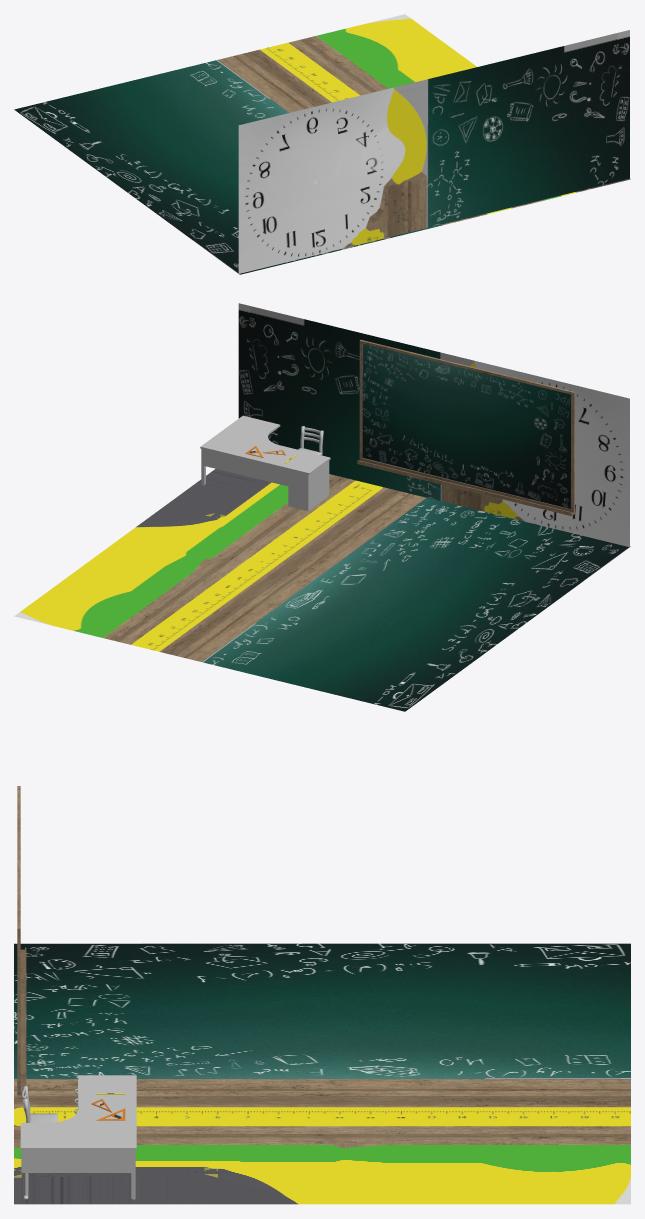
Rendered from ПЗ2.4_Школьный класс_КоноплевСА_Гр7.fbx.
3 views of the same model, one above another, from view 1: azimuth 30°, elevation 25°; view 2: azimuth 150°, elevation 25°; view 3: azimuth 270°, elevation 25° (orthographic). The views are drawn at different scales.
Parts seen in each view (by area): view 1: Плоскость.001, Плоскость; view 2: Плоскость, Плоскость.001, Cube.002, Cube.017; view 3: Плоскость, Cube.017, Cube.002.
Part boxes in pixels (x1=…): Плоскость.001: x1=238, y1=30, x2=629, y2=273; Плоскость: x1=14, y1=14, x2=630, y2=274; Плоскость: x1=14, y1=469, x2=630, y2=711; Плоскость.001: x1=238, y1=303, x2=629, y2=547; Cube.002: x1=357, y1=340, x2=574, y2=516; Cube.017: x1=200, y1=415, x2=330, y2=510; Плоскость: x1=14, y1=943, x2=630, y2=1204; Cube.017: x1=20, y1=1075, x2=136, y2=1199; Cube.002: x1=17, y1=786, x2=26, y2=1095.
Size of the model in its own units: 1100 by 401 by 1100.
